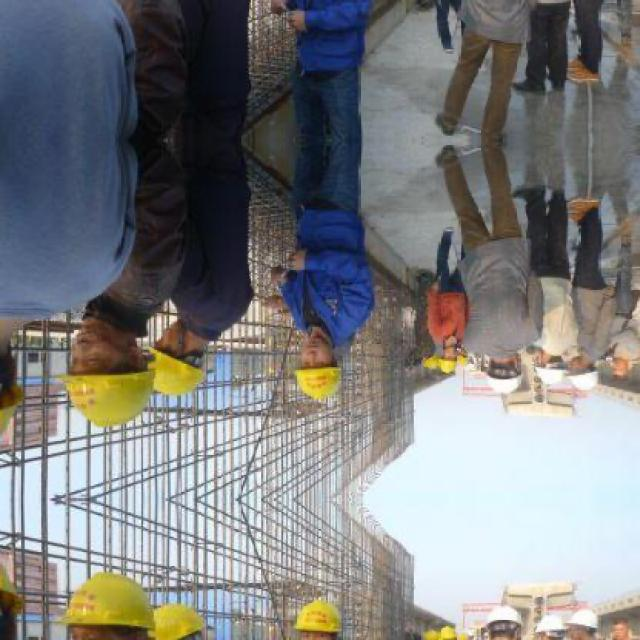con casco: (43, 289, 182, 441), (135, 288, 261, 390), (280, 309, 377, 418), (554, 338, 614, 412), (520, 339, 587, 402), (474, 347, 527, 408)
